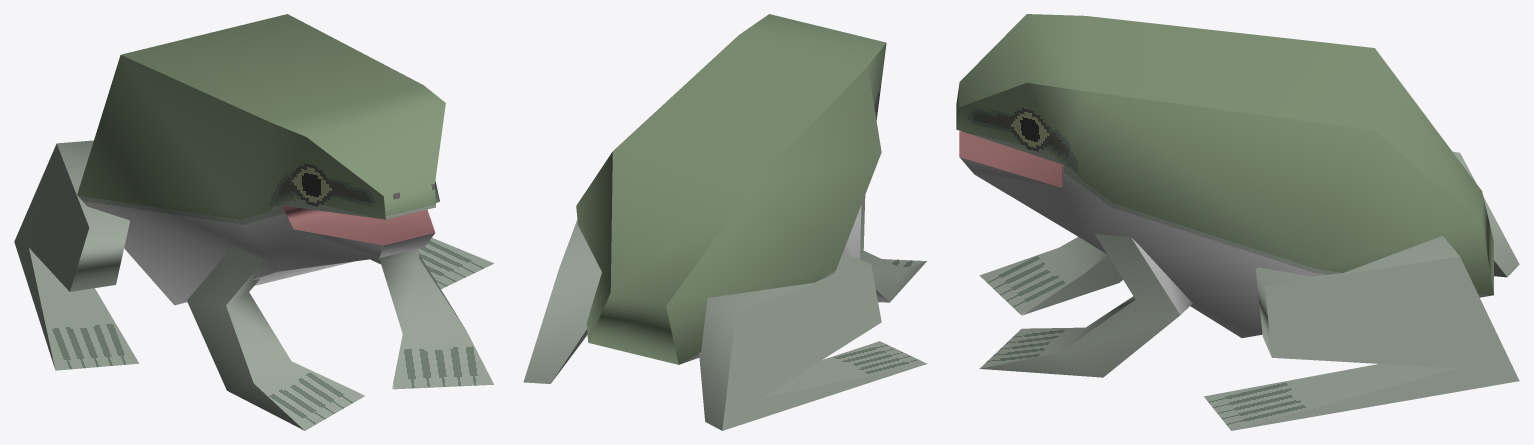
The model's file is 02e5_Tree_Frog.glb.
3 renders of one model, left to right at view 1: azimuth 30°, elevation 25°; view 2: azimuth 150°, elevation 25°; view 3: azimuth 270°, elevation 25°, orthographic. The views are drawn at different scales.
Parts seen in each view (by area): view 1: part_0; view 2: part_0; view 3: part_0.
Boxes of the visible parts, x1,y1,x2,y2 form: part_0: (14,14,494,430); part_0: (523,14,927,430); part_0: (956,14,1519,430).
Size of the model in its own units: 0.0364 by 0.0215 by 0.0399.
1 material, 1 textured.
